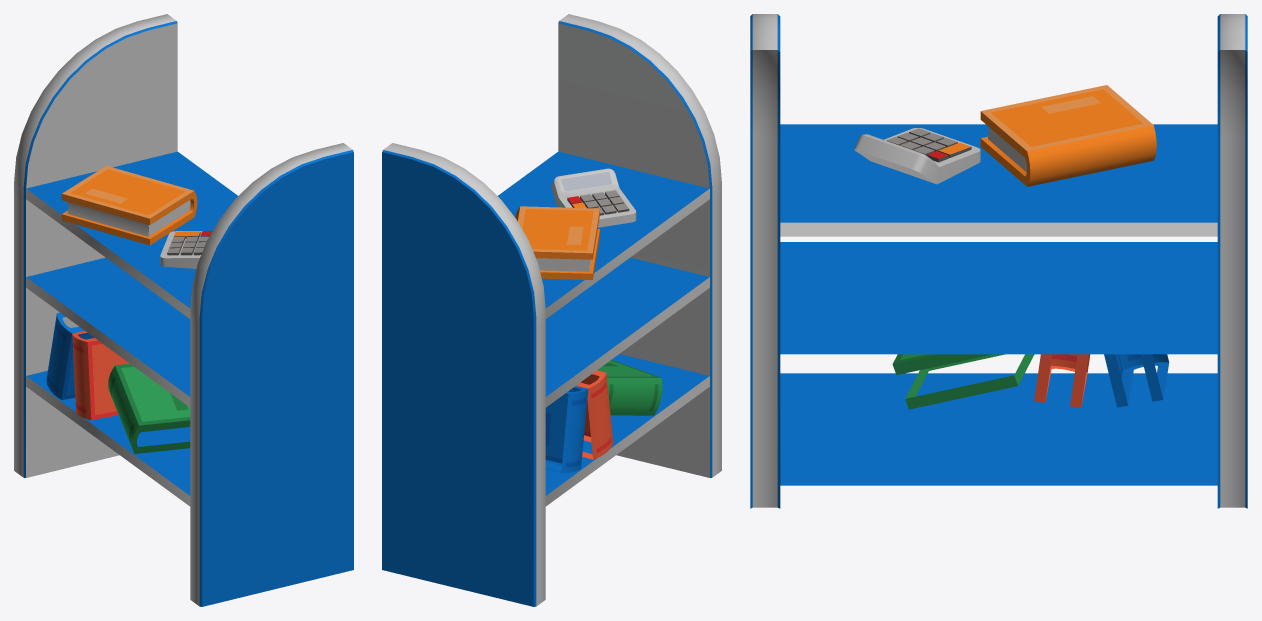
The model's file is Book Shelf.fbx.
3 views of the same model, side by side, from view 1: azimuth 30°, elevation 25°; view 2: azimuth 150°, elevation 25°; view 3: azimuth 270°, elevation 25° (orthographic). The views are drawn at different scales.
Visible parts, largest first — view 1: Book Shelf; view 2: Book Shelf; view 3: Book Shelf.
Boxes of the visible parts, <box> form: Book Shelf: <box>14,14,353,606</box>; Book Shelf: <box>382,14,721,606</box>; Book Shelf: <box>750,14,1247,508</box>.
Bounding box in the file's own units: 4.78 × 12.16 × 9.84.
